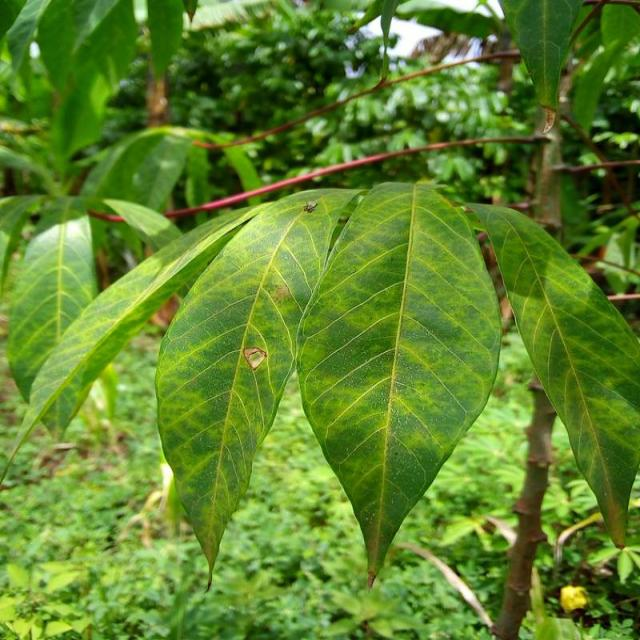cassava leaf: (153, 184, 367, 591), (294, 179, 502, 588), (462, 200, 640, 550), (6, 212, 99, 406)
